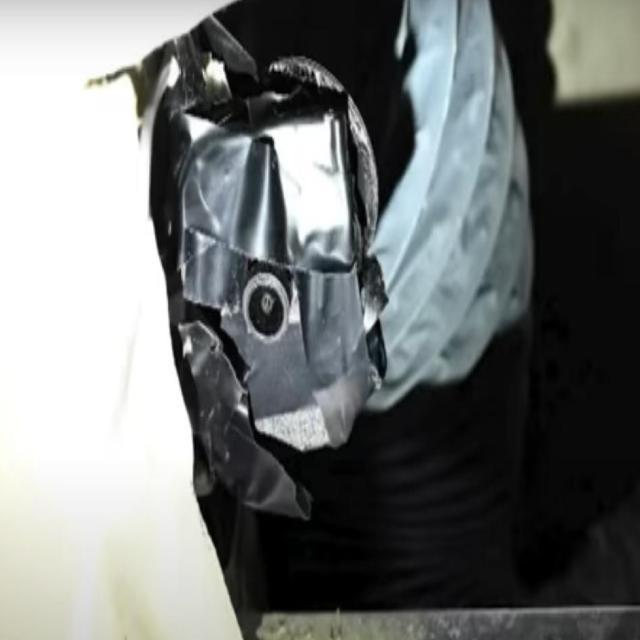hidden camera: (248, 285, 285, 336)
